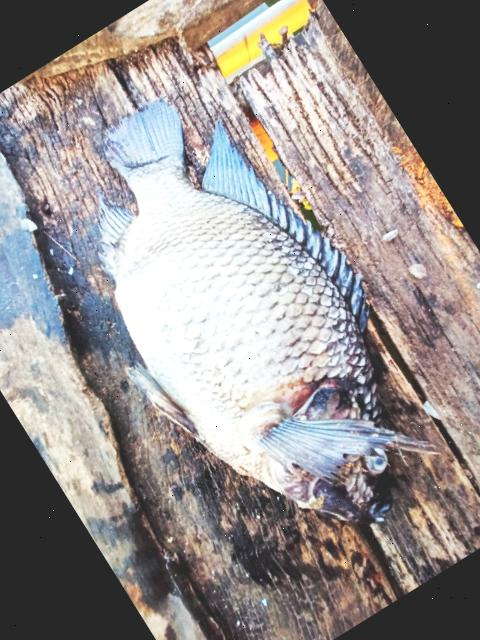Aeromonas Septicemia: (99, 98, 437, 520), (99, 99, 436, 520), (102, 98, 409, 525)
